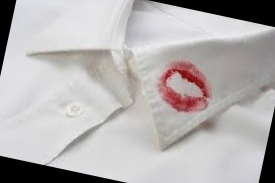lipstick: (153, 60, 223, 123)
